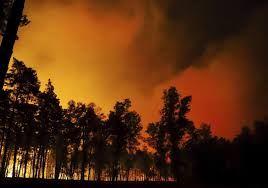fire: (6, 154, 31, 178)
smoke: (33, 8, 132, 92)
